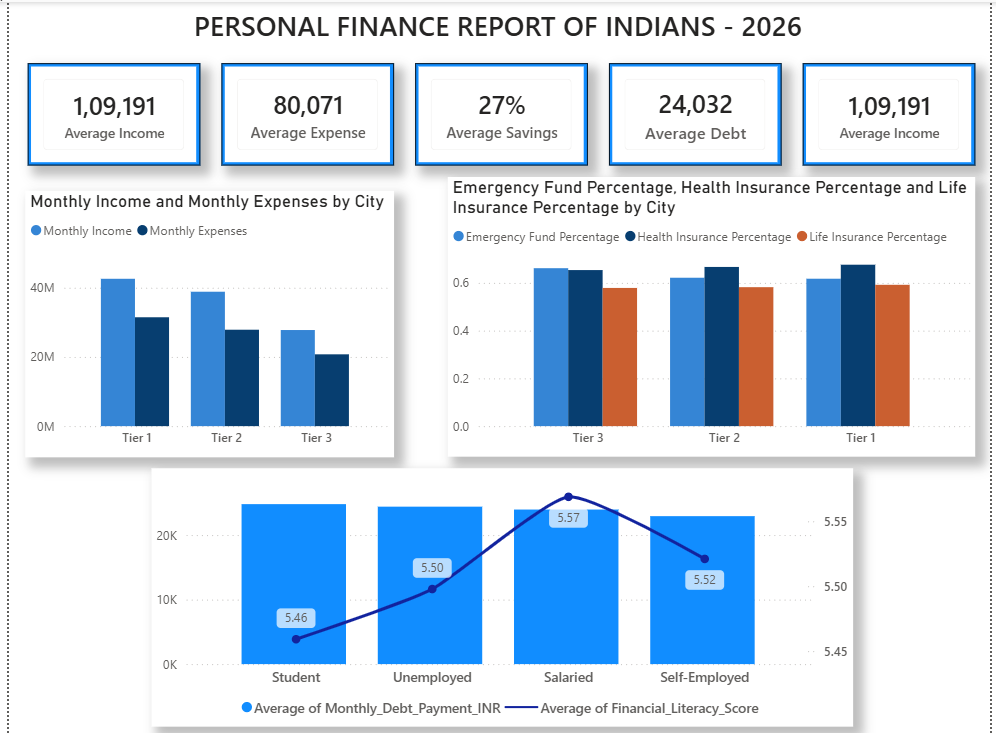

Layout of this report page (visuals, bound fields, positions):
{"tool":"powerbi","page":{"name":"Overview","canvas":[960,720],"ordinal":0},"visuals":[{"type":"textbox","box":[175.5,0,609,50.1],"z":0},{"type":"cardVisual","fields":{"Data":["Avg(Indian_Personal_Finance_Behavior_Dataset_2026.Monthly_Income_INR)"]},"box":[18.3,59.9,168.8,100.3],"z":1000},{"type":"cardVisual","fields":{"Data":["Avg(Indian_Personal_Finance_Behavior_Dataset_2026.Monthly_Expenses_INR)"]},"box":[207.9,59.9,168.8,100.3],"z":2000},{"type":"cardVisual","fields":{"Data":["Avg(Indian_Personal_Finance_Behavior_Dataset_2026.Savings_Percentage)"]},"box":[397.4,59.9,168.8,100.3],"z":3000},{"type":"cardVisual","fields":{"Data":["Avg(Indian_Personal_Finance_Behavior_Dataset_2026.Monthly_Debt_Payment_INR)"]},"box":[587,59.9,168.8,100.3],"z":4000},{"type":"cardVisual","fields":{"Data":["Avg(Indian_Personal_Finance_Behavior_Dataset_2026.Monthly_Income_INR)"]},"box":[776.5,59.9,168.8,100.3],"z":5000},{"type":"clusteredColumnChart","fields":{"Y":["Sum(Indian_Personal_Finance_Behavior_Dataset_2026.Monthly_Income_INR)","Sum(Indian_Personal_Finance_Behavior_Dataset_2026.Monthly_Expenses_INR)"],"Category":["Indian_Personal_Finance_Behavior_Dataset_2026.City_Tier"]},"box":[15.9,184.6,360.7,260.5],"z":6000},{"type":"clusteredColumnChart","fields":{"Category":["Indian_Personal_Finance_Behavior_Dataset_2026.City_Tier"],"Y":["Indian_Personal_Finance_Behavior_Dataset_2026.Emergency Fund Percentage","Indian_Personal_Finance_Behavior_Dataset_2026.Health Insurance Percentage","Indian_Personal_Finance_Behavior_Dataset_2026.Life Insurance Percentage"]},"box":[429.2,171.2,516,273.9],"z":7000},{"type":"lineClusteredColumnComboChart","fields":{"Category":["Indian_Personal_Finance_Behavior_Dataset_2026.Employment_Type"],"Y2":["Avg(Indian_Personal_Finance_Behavior_Dataset_2026.Financial_Literacy_Score)"],"Y":["Avg(Indian_Personal_Finance_Behavior_Dataset_2026.Monthly_Debt_Payment_INR)"]},"box":[139.4,456.1,686,253.1],"z":8000}]}

Visuals, with their boxes in screenshot pixels (x1, y1, x2, y2), scaled from the page's 960x720 canvas onto the 996x733 screenshot:
textbox: bbox=[182, 0, 814, 51]
cardVisual - Avg(Indian_Personal_Finance_Behavior_Dataset_2026.Monthly_Income_INR): bbox=[19, 61, 194, 163]
cardVisual - Avg(Indian_Personal_Finance_Behavior_Dataset_2026.Monthly_Expenses_INR): bbox=[216, 61, 391, 163]
cardVisual - Avg(Indian_Personal_Finance_Behavior_Dataset_2026.Savings_Percentage): bbox=[412, 61, 587, 163]
cardVisual - Avg(Indian_Personal_Finance_Behavior_Dataset_2026.Monthly_Debt_Payment_INR): bbox=[609, 61, 784, 163]
cardVisual - Avg(Indian_Personal_Finance_Behavior_Dataset_2026.Monthly_Income_INR): bbox=[806, 61, 981, 163]
clusteredColumnChart - Sum(Indian_Personal_Finance_Behavior_Dataset_2026.Monthly_Income_INR) x Sum(Indian_Personal_Finance_Behavior_Dataset_2026.Monthly_Expenses_INR): bbox=[16, 188, 391, 453]
clusteredColumnChart - Indian_Personal_Finance_Behavior_Dataset_2026.City_Tier x Indian_Personal_Finance_Behavior_Dataset_2026.Emergency Fund Percentage: bbox=[445, 174, 981, 453]
lineClusteredColumnComboChart - Indian_Personal_Finance_Behavior_Dataset_2026.Employment_Type x Avg(Indian_Personal_Finance_Behavior_Dataset_2026.Financial_Literacy_Score): bbox=[145, 464, 856, 722]
